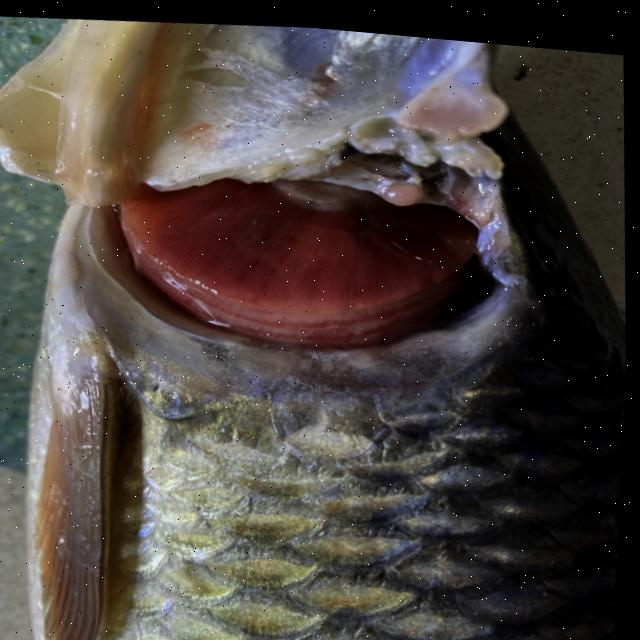Fresh: (98, 134, 506, 334)
